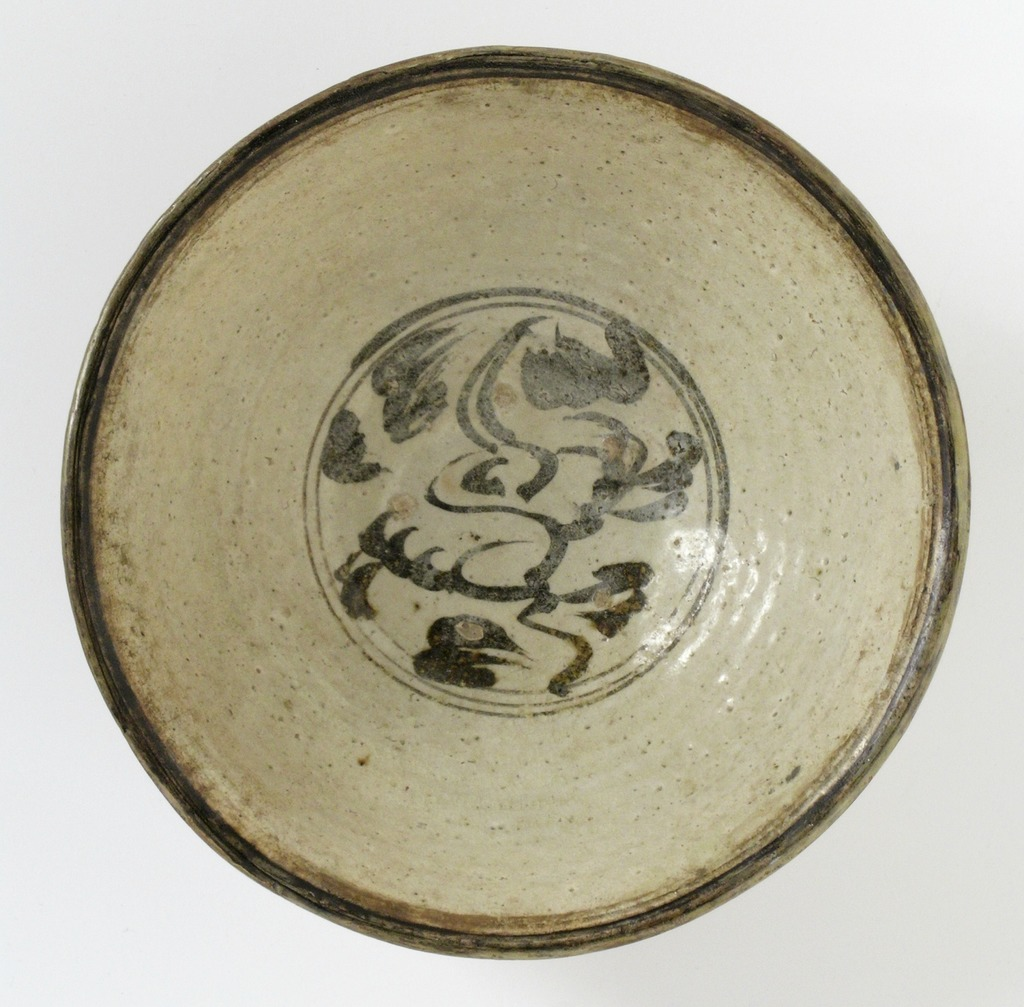plate: (49, 28, 1020, 922)
